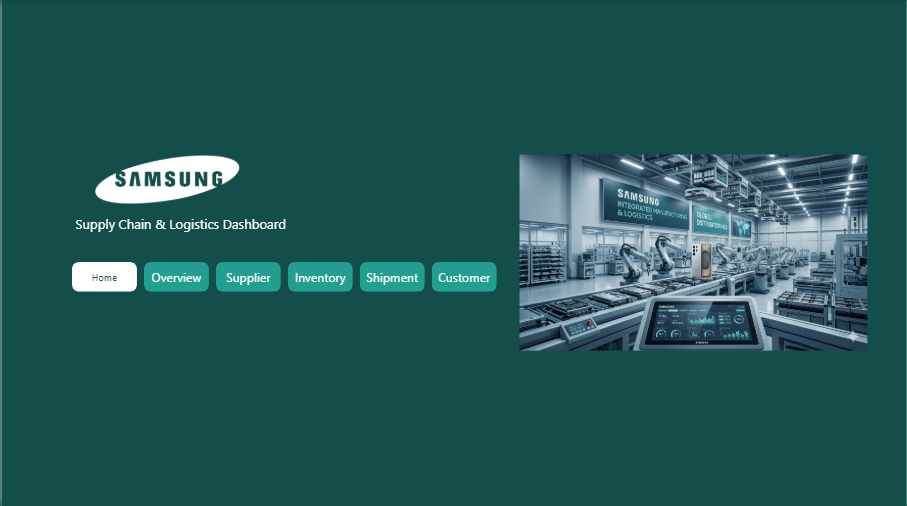

The page's visual inventory and layout, read from the dashboard file:
{"tool":"powerbi","page":{"name":"Home","canvas":[1280,720],"ordinal":0},"visuals":[{"type":"textbox","title":"Supply Chain & Logistics Dashboard","box":[98.8,306.1,310.4,34],"z":0},{"type":"image","box":[98.8,216.8,270.7,78],"z":1000},{"type":"pageNavigator","box":[98.6,372.9,604.3,42.9],"z":2000},{"type":"image","box":[728.6,80,502.9,560],"z":3000}]}

Visuals, with their boxes in screenshot pixels (x1, y1, x2, y2), scaled from the page's 1280x720 canvas onto the 907x506 screenshot:
"Supply Chain & Logistics Dashboard" textbox: BBox(70, 215, 290, 239)
image: BBox(70, 152, 262, 207)
pageNavigator: BBox(70, 262, 498, 292)
image: BBox(516, 56, 873, 450)
